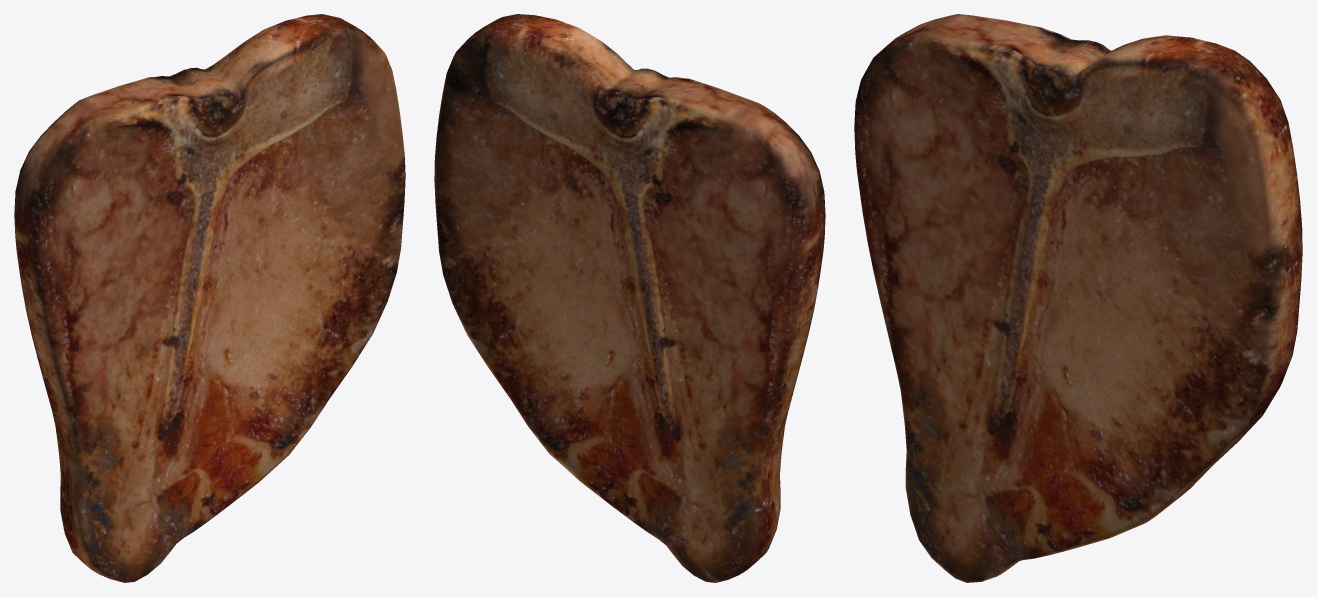
Rendered from steak.obj.
3 views of the same model, side by side, from view 1: azimuth 30°, elevation 25°; view 2: azimuth 150°, elevation 25°; view 3: azimuth 330°, elevation 25° (orthographic). The views are drawn at different scales.
Visible parts, largest first — view 1: default; view 2: default; view 3: default.
Part boxes in pixels (x1,y1,x2,y2): default: (14,14,405,582); default: (434,14,825,582); default: (854,14,1302,582).
Bounding box in the file's own units: 9.26 × 12.01 × 1.54.
1 material, 1 textured.
